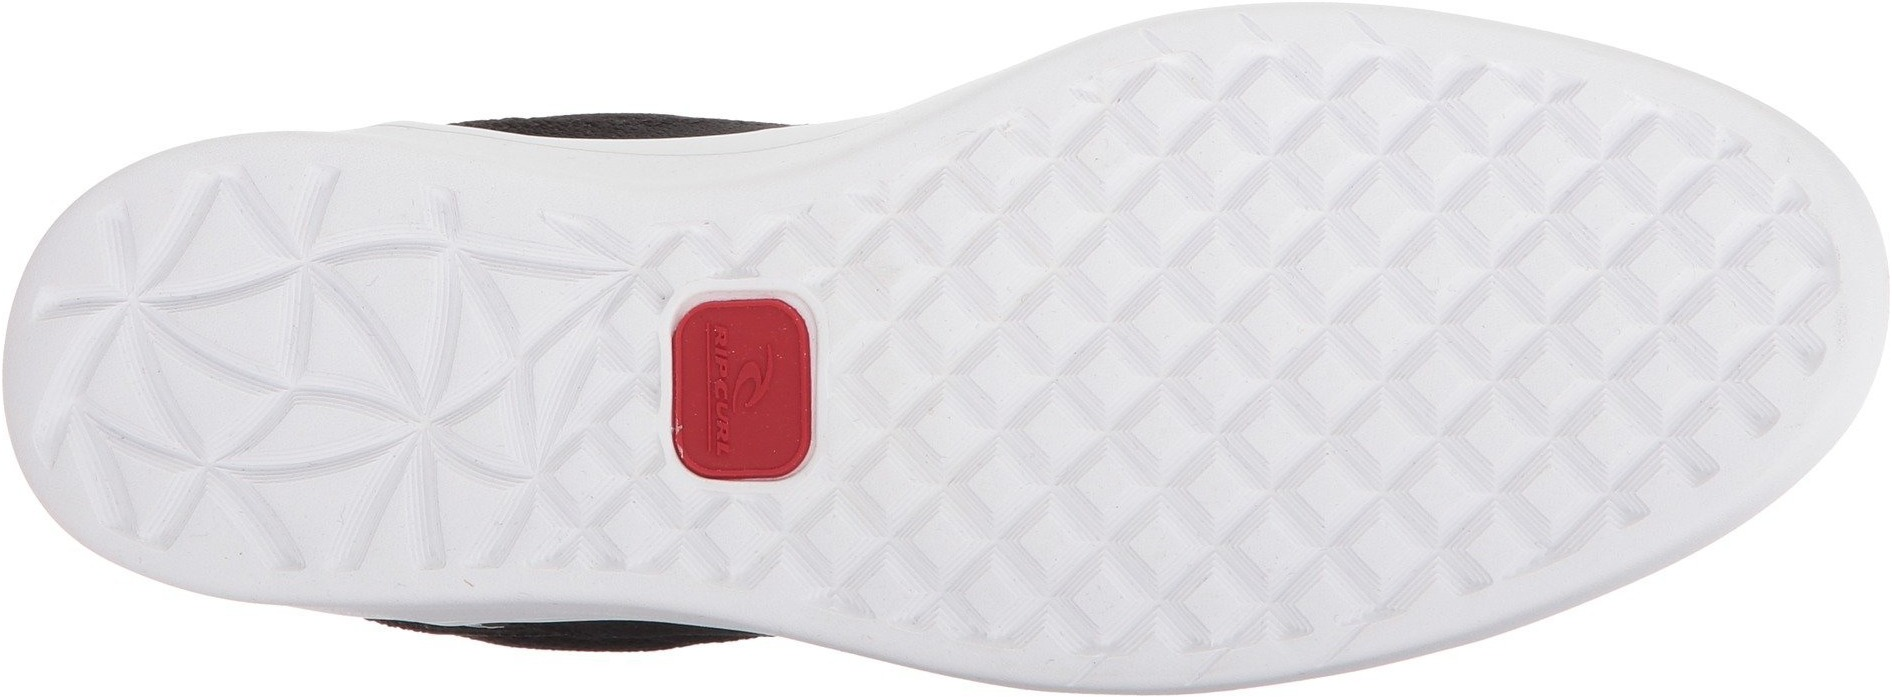exclude: (294, 597, 813, 685)
quad: (147, 168, 562, 570), (121, 273, 448, 490), (640, 279, 851, 492)
star: (147, 168, 562, 570)
text: (697, 322, 741, 371), (697, 376, 738, 416), (700, 420, 741, 457)
triangle: (147, 168, 562, 570), (121, 273, 448, 490)
